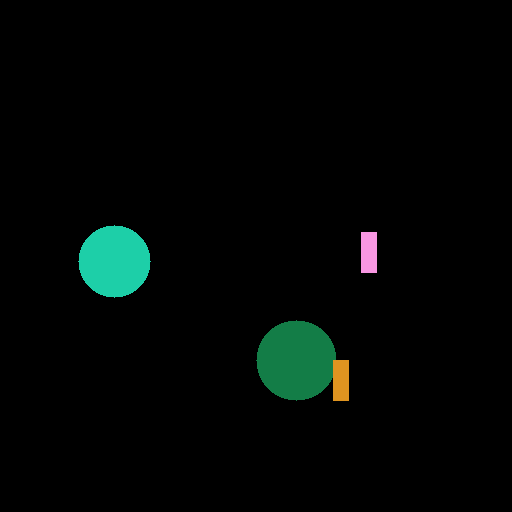circle: (74, 224, 156, 299), (253, 322, 335, 397)
up_rect: (355, 225, 384, 277), (326, 357, 355, 407)
